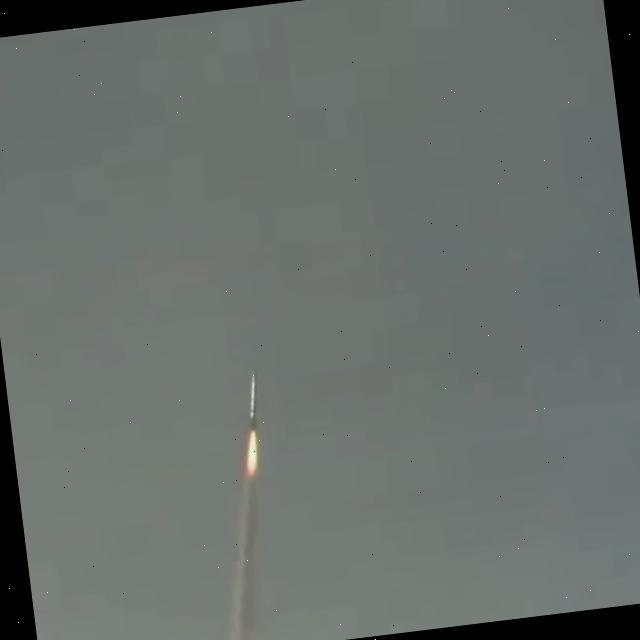smoke_trail_with_rocket: (228, 371, 263, 640)
